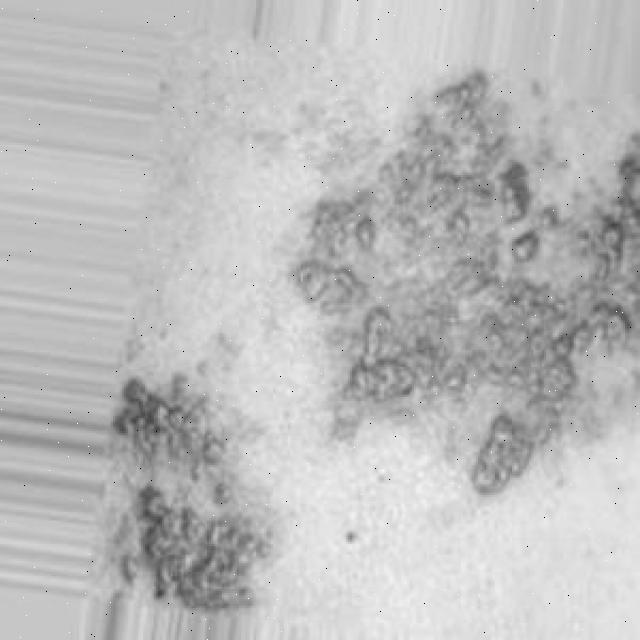Shingles: (292, 61, 640, 496), (94, 360, 272, 612)
